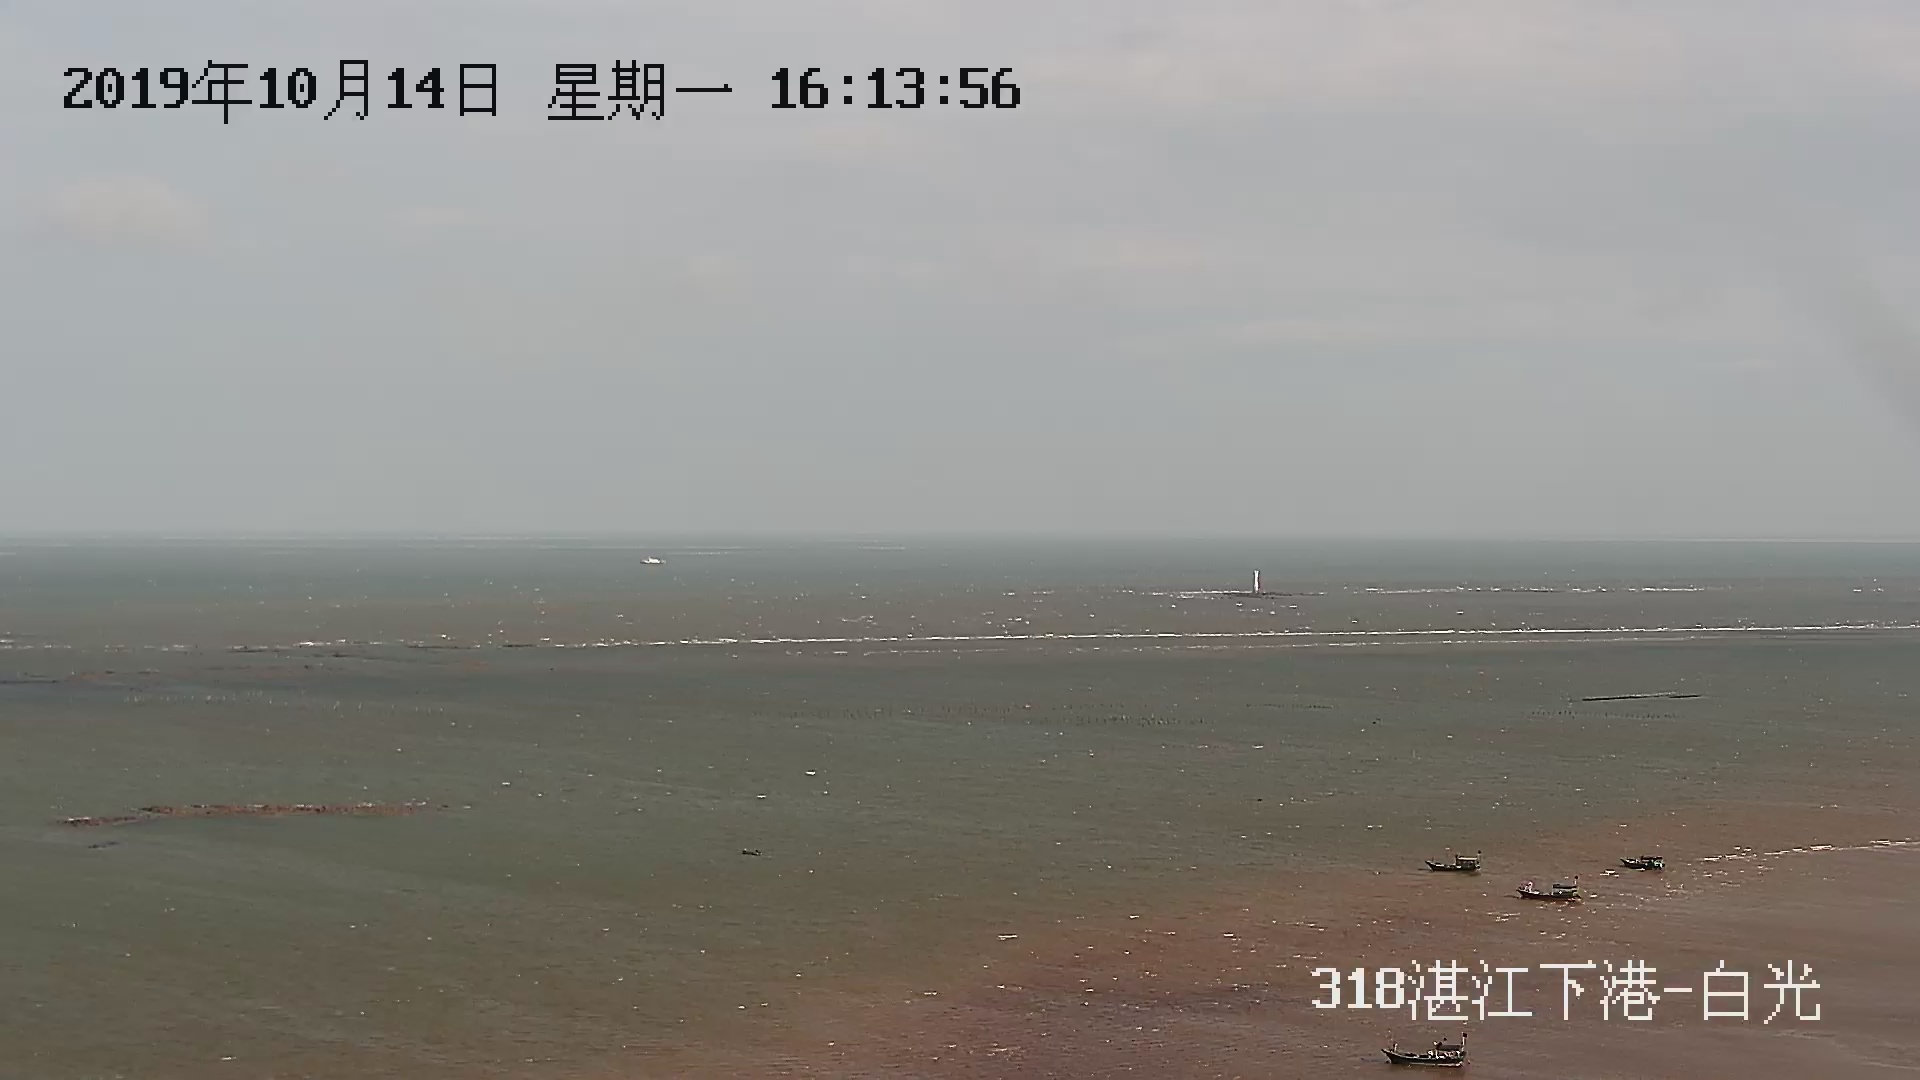ship: (1381, 1027, 1468, 1067), (1423, 849, 1484, 876), (1516, 880, 1582, 902), (1625, 849, 1665, 877)
